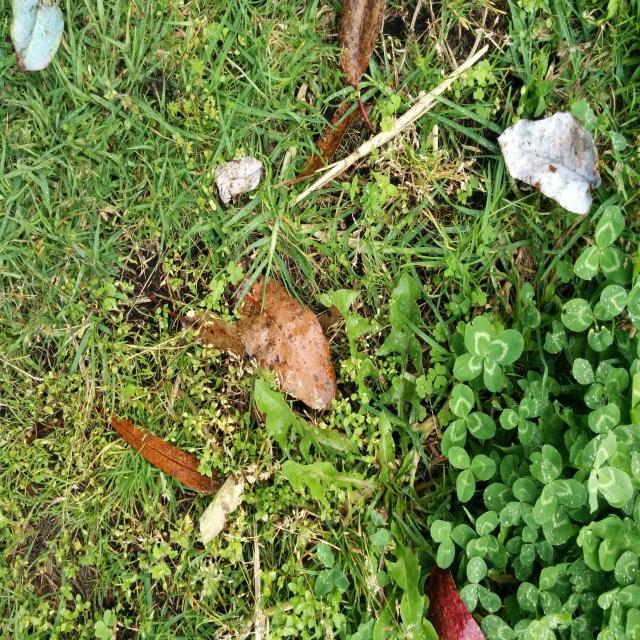Four Leaf Clover: (453, 316, 524, 393)
